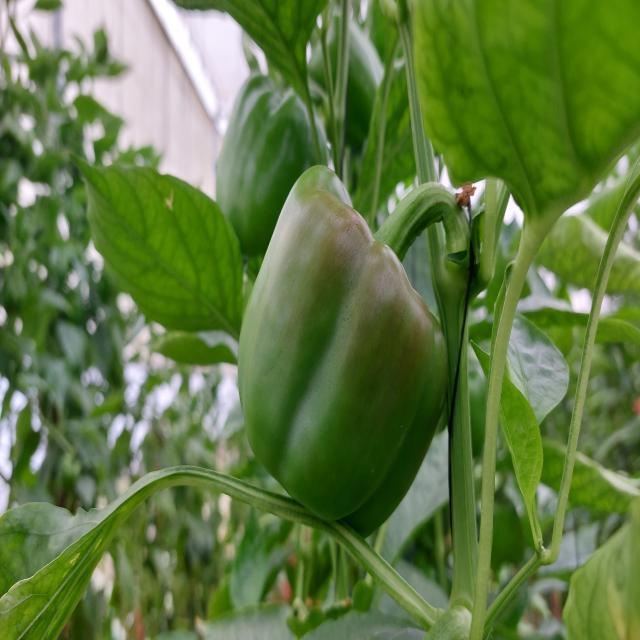Green--Not-ready-to-harvest: (241, 170, 459, 553), (252, 197, 396, 540)
